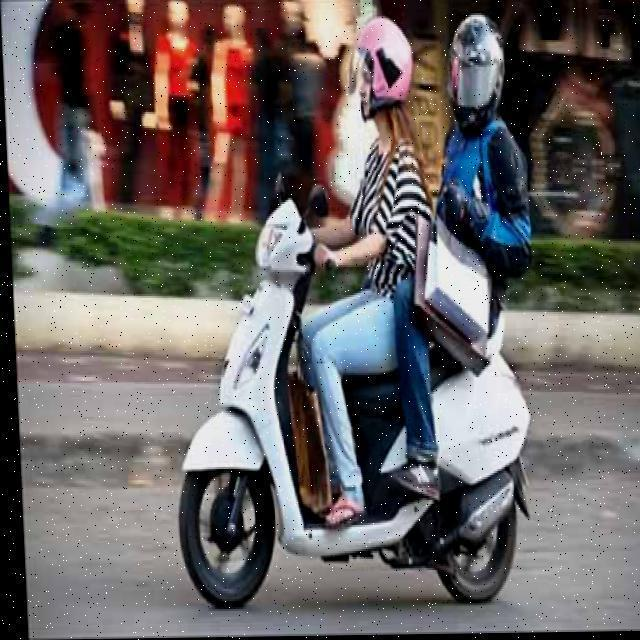Helmet: (348, 13, 421, 124)
